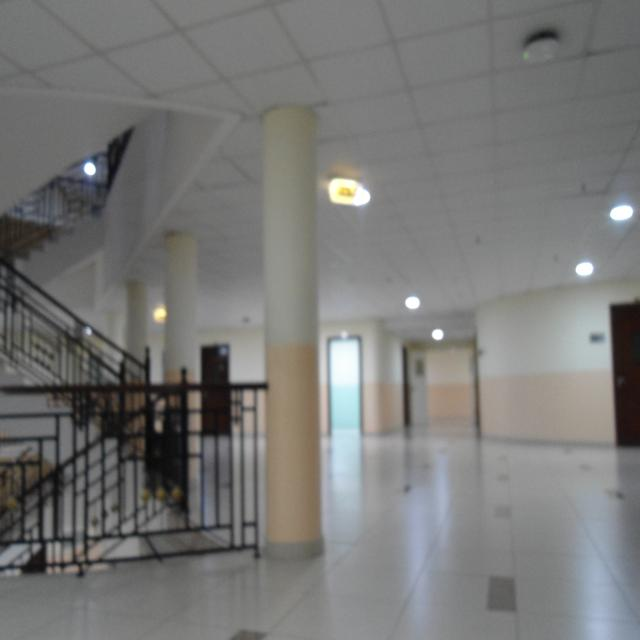exitLight: (329, 178, 370, 207)
path: (0, 430, 640, 638)
pillar: (262, 107, 324, 558)
railing: (0, 127, 265, 573)
